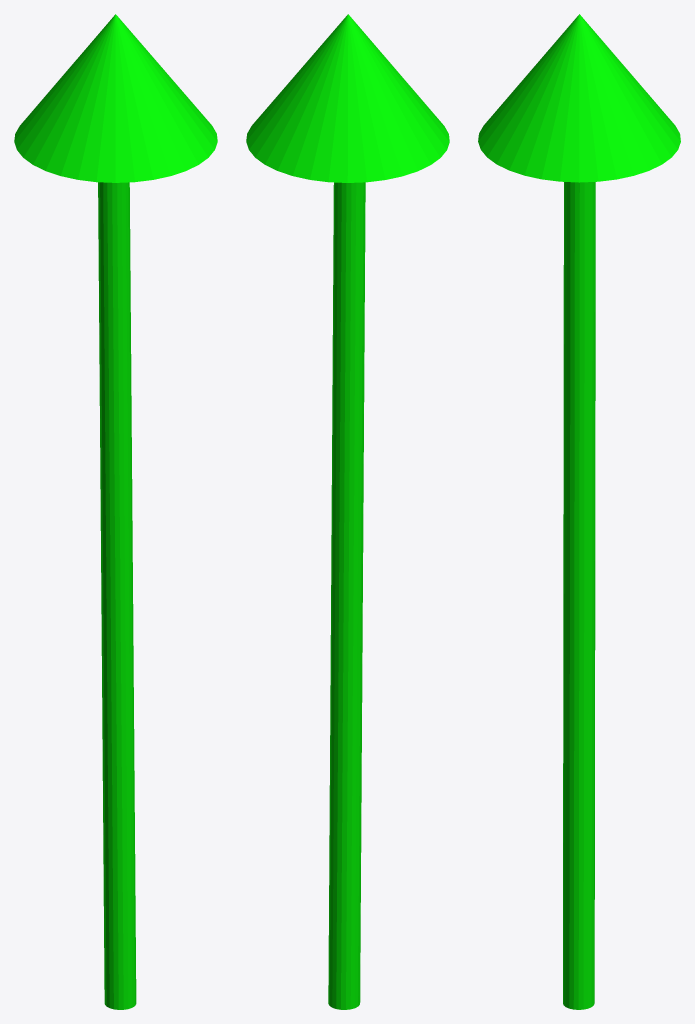
The model's file is YShift.obj.
3 renders of one model, left to right at view 1: azimuth 30°, elevation 25°; view 2: azimuth 150°, elevation 25°; view 3: azimuth 270°, elevation 25°, orthographic.
Bounding box in the file's own units: 14.85 × 79.81 × 14.87.
